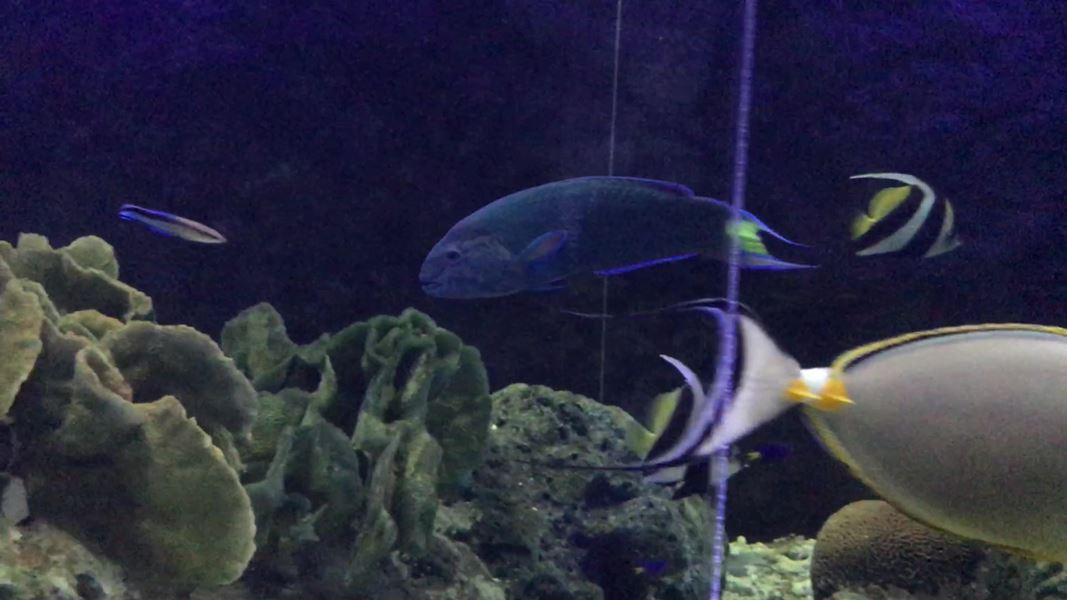Bluesteak cleaner wrasse: (102, 193, 237, 259)
